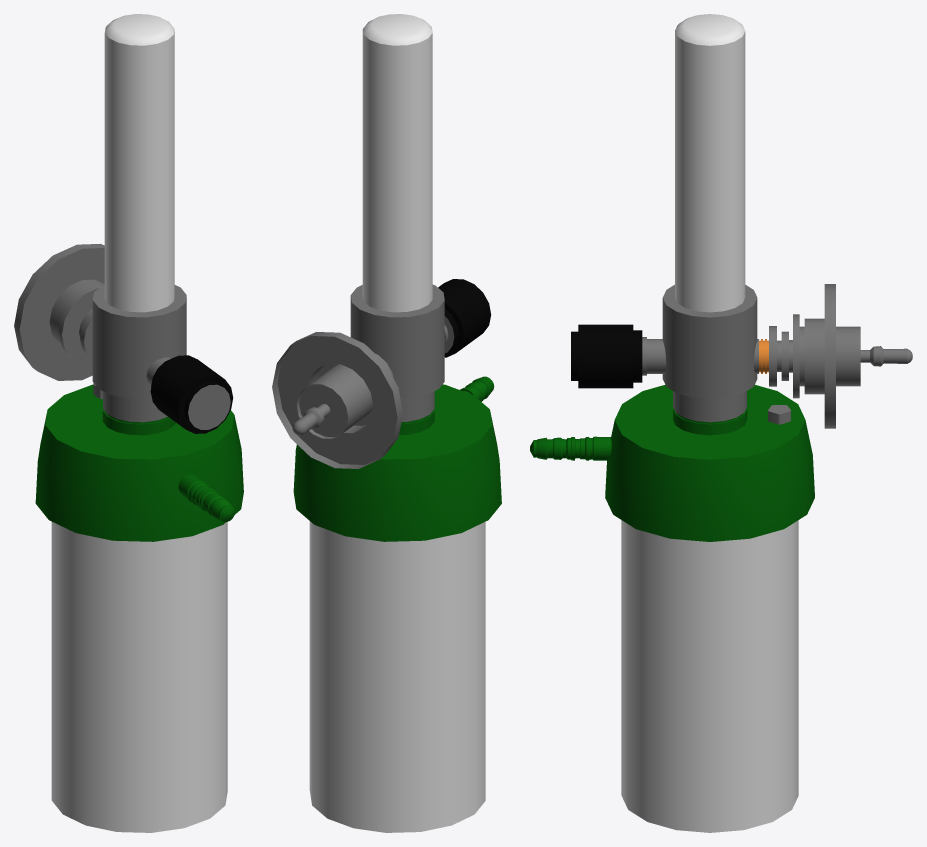
The model's file is BEM-47.fbx.
The picture shows the model from 3 angles, left to right: view 1: azimuth 30°, elevation 25°; view 2: azimuth 150°, elevation 25°; view 3: azimuth 270°, elevation 25°; orthographic projection.
Visible parts, largest first — view 1: BEM-47; view 2: BEM-47; view 3: BEM-47.
Boxes of the visible parts, x1,y1,x2,y2 form: BEM-47: [14, 14, 243, 832]; BEM-47: [272, 14, 501, 832]; BEM-47: [530, 14, 912, 832].
Size of the model in its own units: 103 by 419 by 189.
